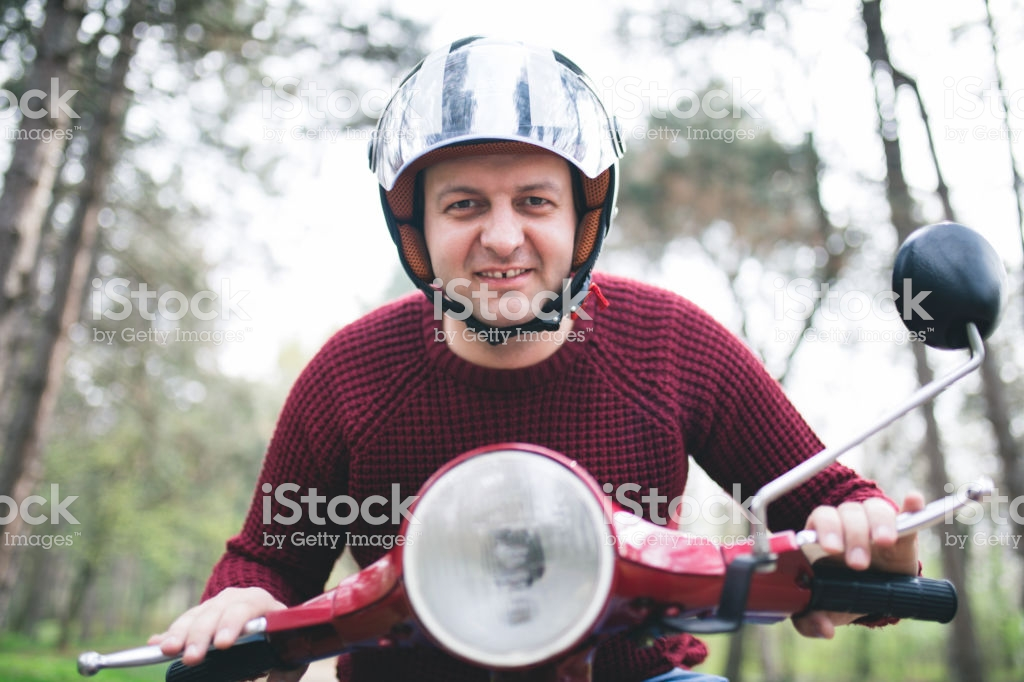helmet: (378, 33, 628, 237)
